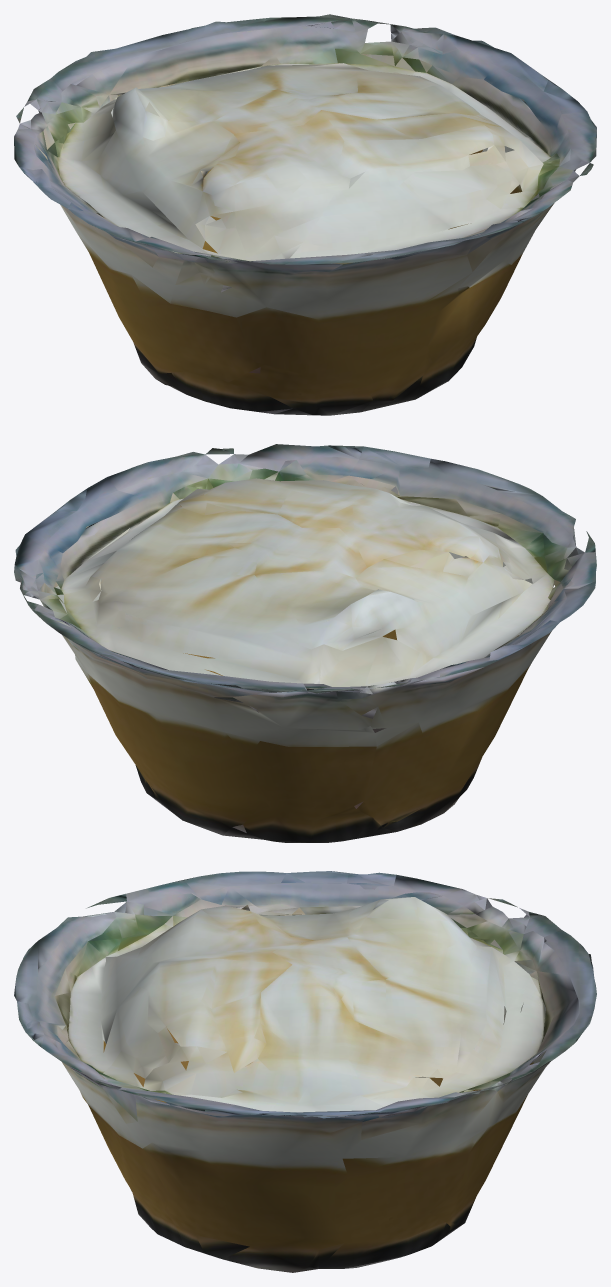
The model's file is Crème sucrée au Mascarpone.glb.
3 views of the same model, one above another, from view 1: azimuth 30°, elevation 25°; view 2: azimuth 150°, elevation 25°; view 3: azimuth 270°, elevation 25° (orthographic).
Visible parts, largest first — view 1: high_poly.072; view 2: high_poly.072; view 3: high_poly.072.
Part boxes in pixels (x1=…): high_poly.072: x1=14, y1=14, x2=596, y2=415; high_poly.072: x1=14, y1=444, x2=596, y2=842; high_poly.072: x1=14, y1=871, x2=596, y2=1272.
Bounding box in the file's own units: 0.9912 × 0.4705 × 0.9978.
Materials: 1 (1 with a texture image).
